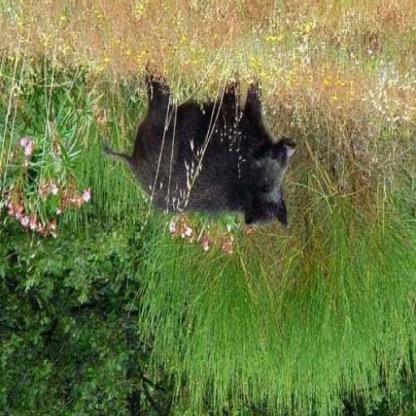boar: (97, 70, 302, 238)
